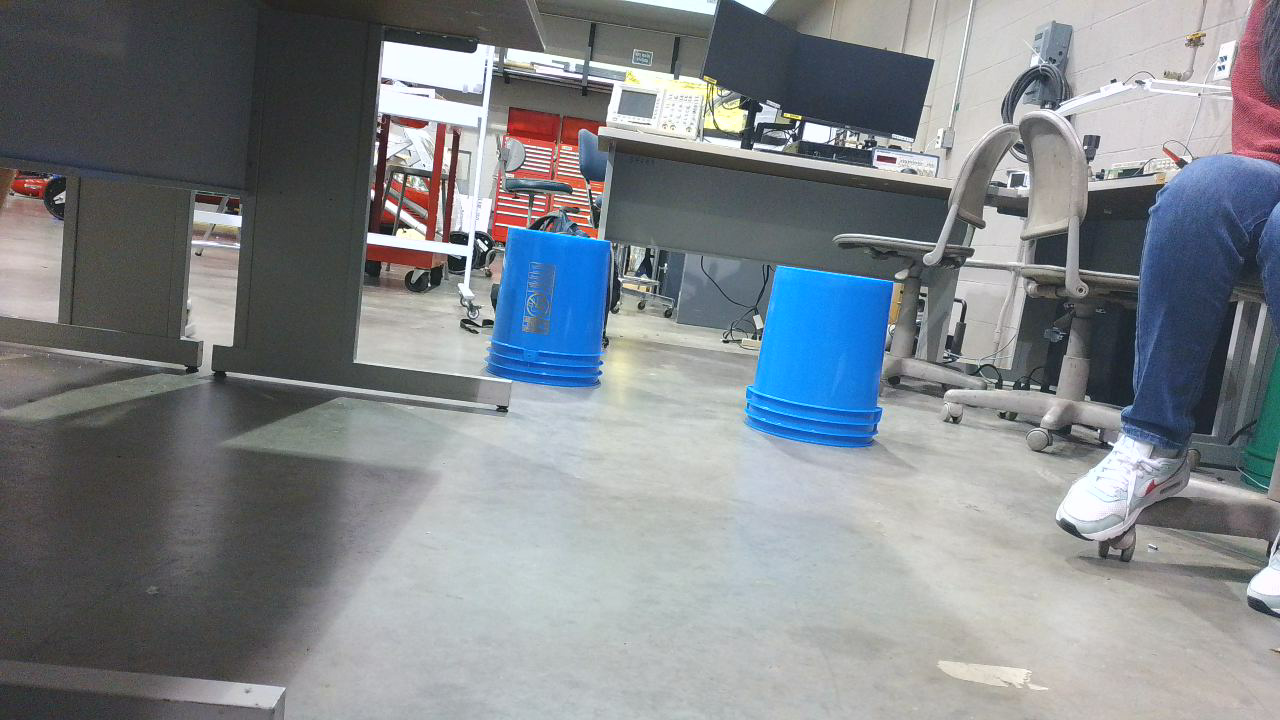blue_bucket: (742, 261, 904, 455), (491, 229, 623, 397)
